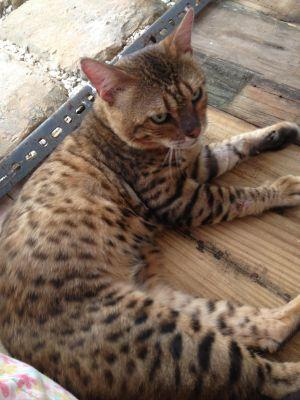bengal: (77, 3, 222, 158)
